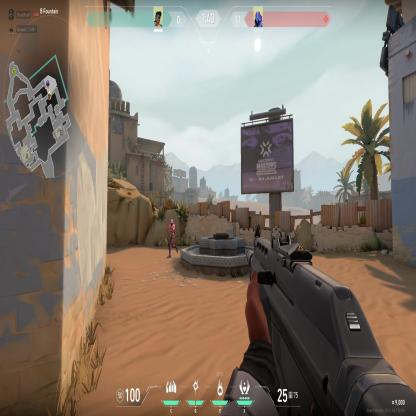enemy: (166, 218, 178, 258)
